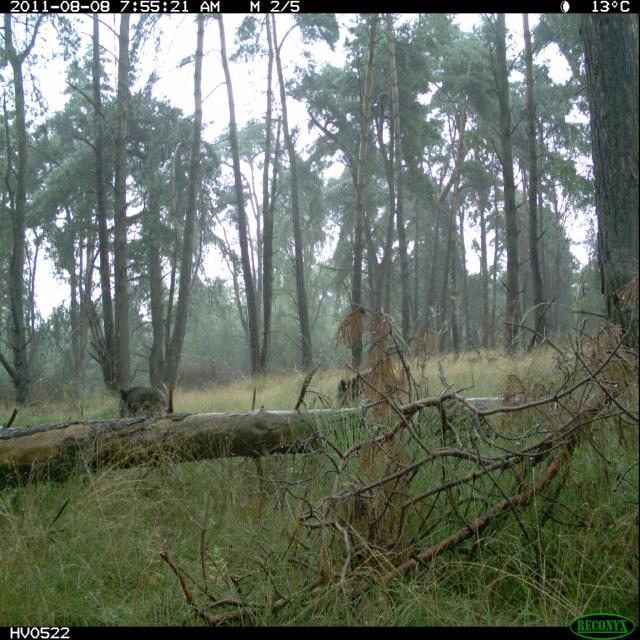boar: (105, 366, 179, 444)
